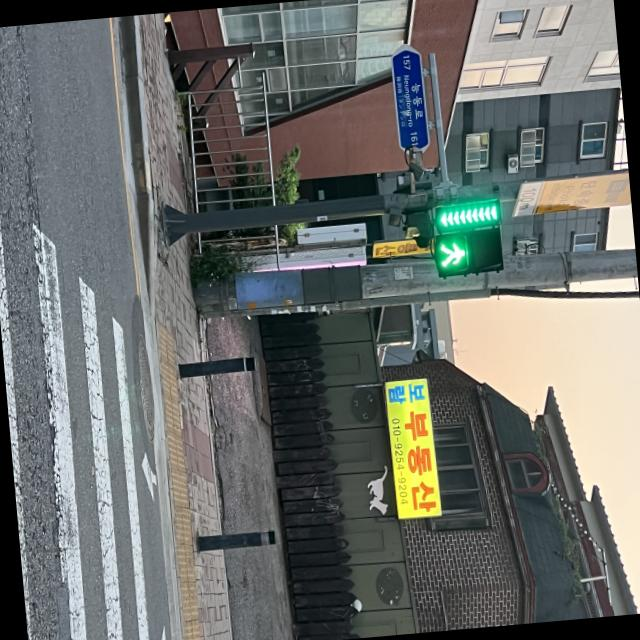green_light: (407, 168, 522, 306)
zebra: (0, 115, 190, 640)
